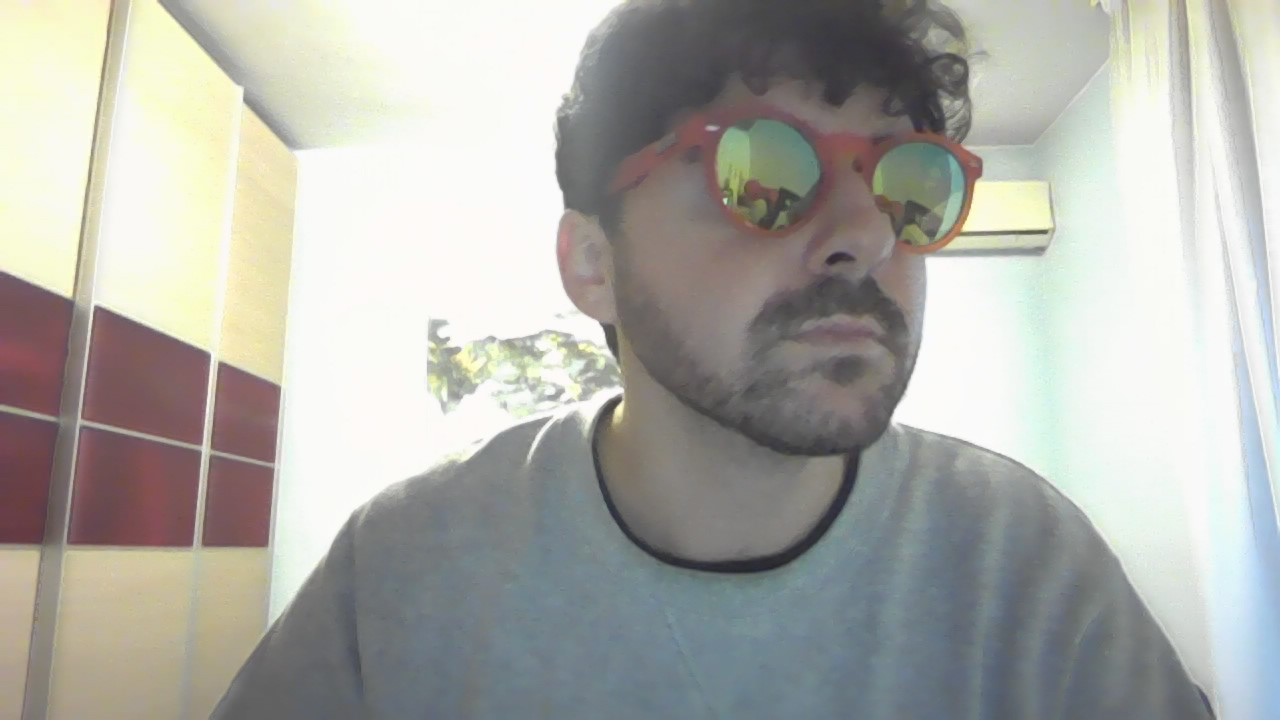Glasses: (546, 107, 999, 264)
